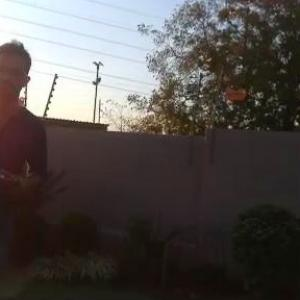follow: (0, 44, 65, 299)
